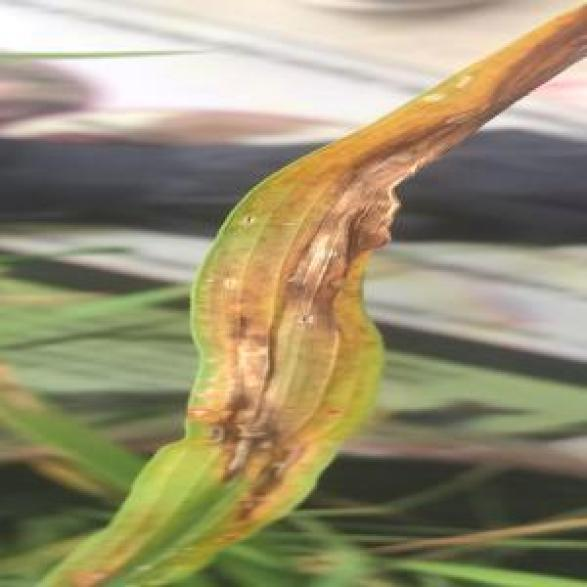Leaf_smut: (288, 143, 442, 315), (209, 415, 323, 507), (170, 377, 278, 468)
